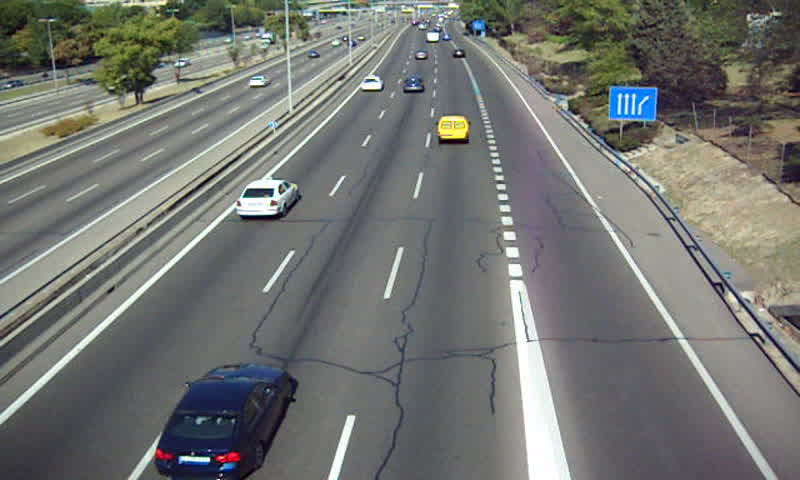car: (154, 363, 292, 480), (236, 179, 298, 216), (359, 75, 383, 94), (402, 77, 425, 94), (416, 49, 429, 62)
van: (437, 116, 470, 144)
